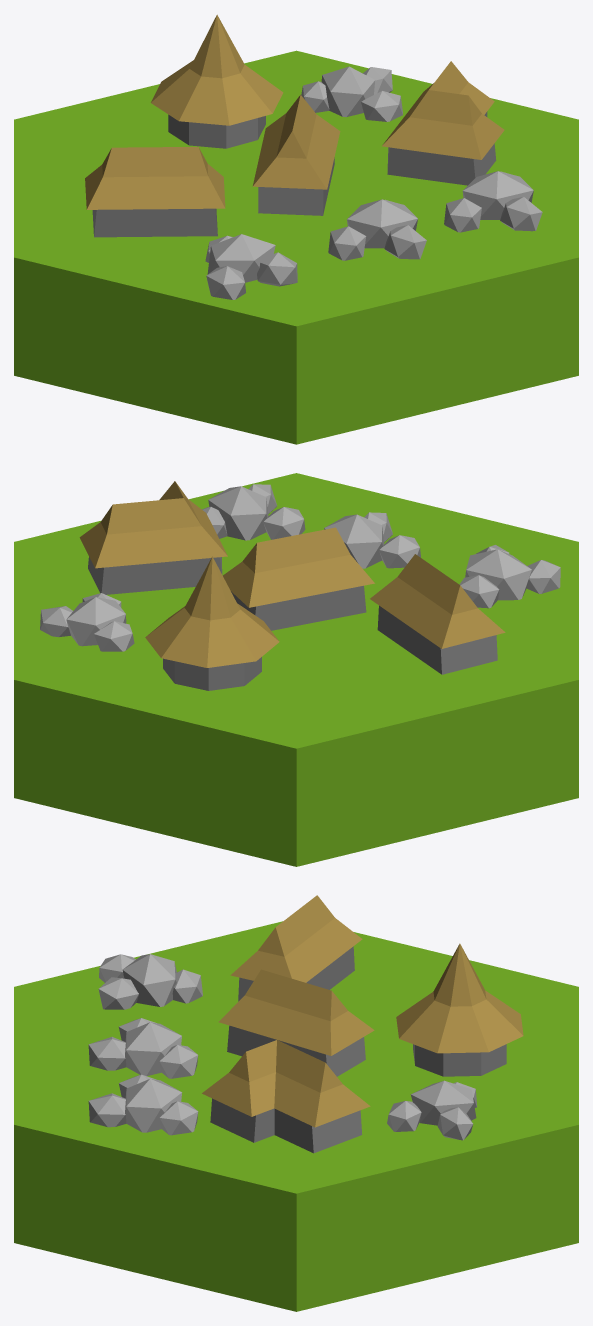
Rendered from Casas_Rocoso_4.fbx.
3 views of the same model, one above another, from view 1: azimuth 30°, elevation 25°; view 2: azimuth 150°, elevation 25°; view 3: azimuth 270°, elevation 25° (orthographic).
Visible parts, largest first — view 1: Casas_Rocoso_4; view 2: Casas_Rocoso_4; view 3: Casas_Rocoso_4.
Boxes of the visible parts, bbox=[...] form: Casas_Rocoso_4: bbox=[14, 14, 578, 444]; Casas_Rocoso_4: bbox=[14, 473, 578, 866]; Casas_Rocoso_4: bbox=[14, 895, 578, 1311].
Size of the model in its own units: 200 by 78.5 by 173.
